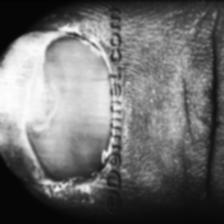Toxin: (17, 56, 62, 144)
